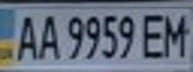5: (100, 11, 121, 61)
9: (115, 11, 142, 61), (81, 11, 103, 61), (63, 11, 84, 61)
A: (9, 10, 42, 62), (33, 10, 60, 61)
E: (139, 10, 169, 60)
M: (160, 9, 190, 58)
